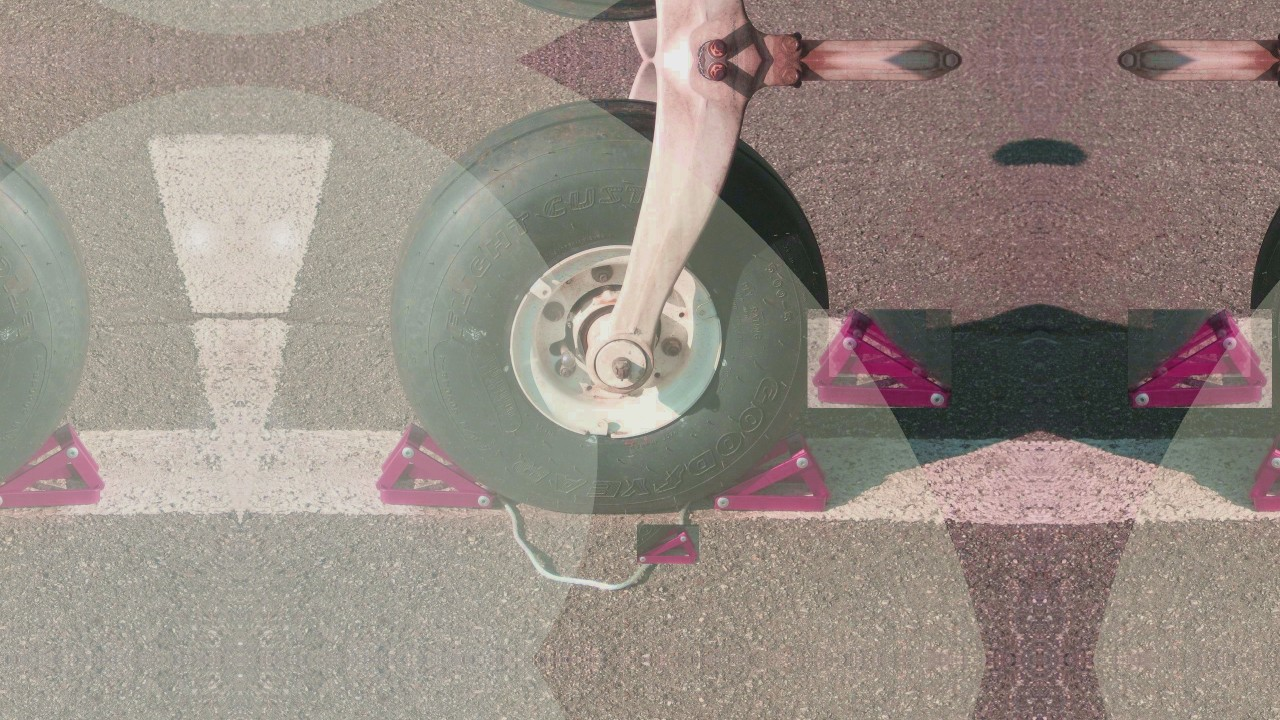chock: (807, 309, 951, 408), (1129, 309, 1273, 408), (371, 423, 496, 508), (711, 434, 833, 511), (0, 423, 109, 508), (829, 311, 926, 377), (1154, 311, 1251, 377), (1247, 434, 1280, 511), (637, 525, 699, 564)
wheel: (391, 99, 815, 504), (0, 99, 89, 504)
